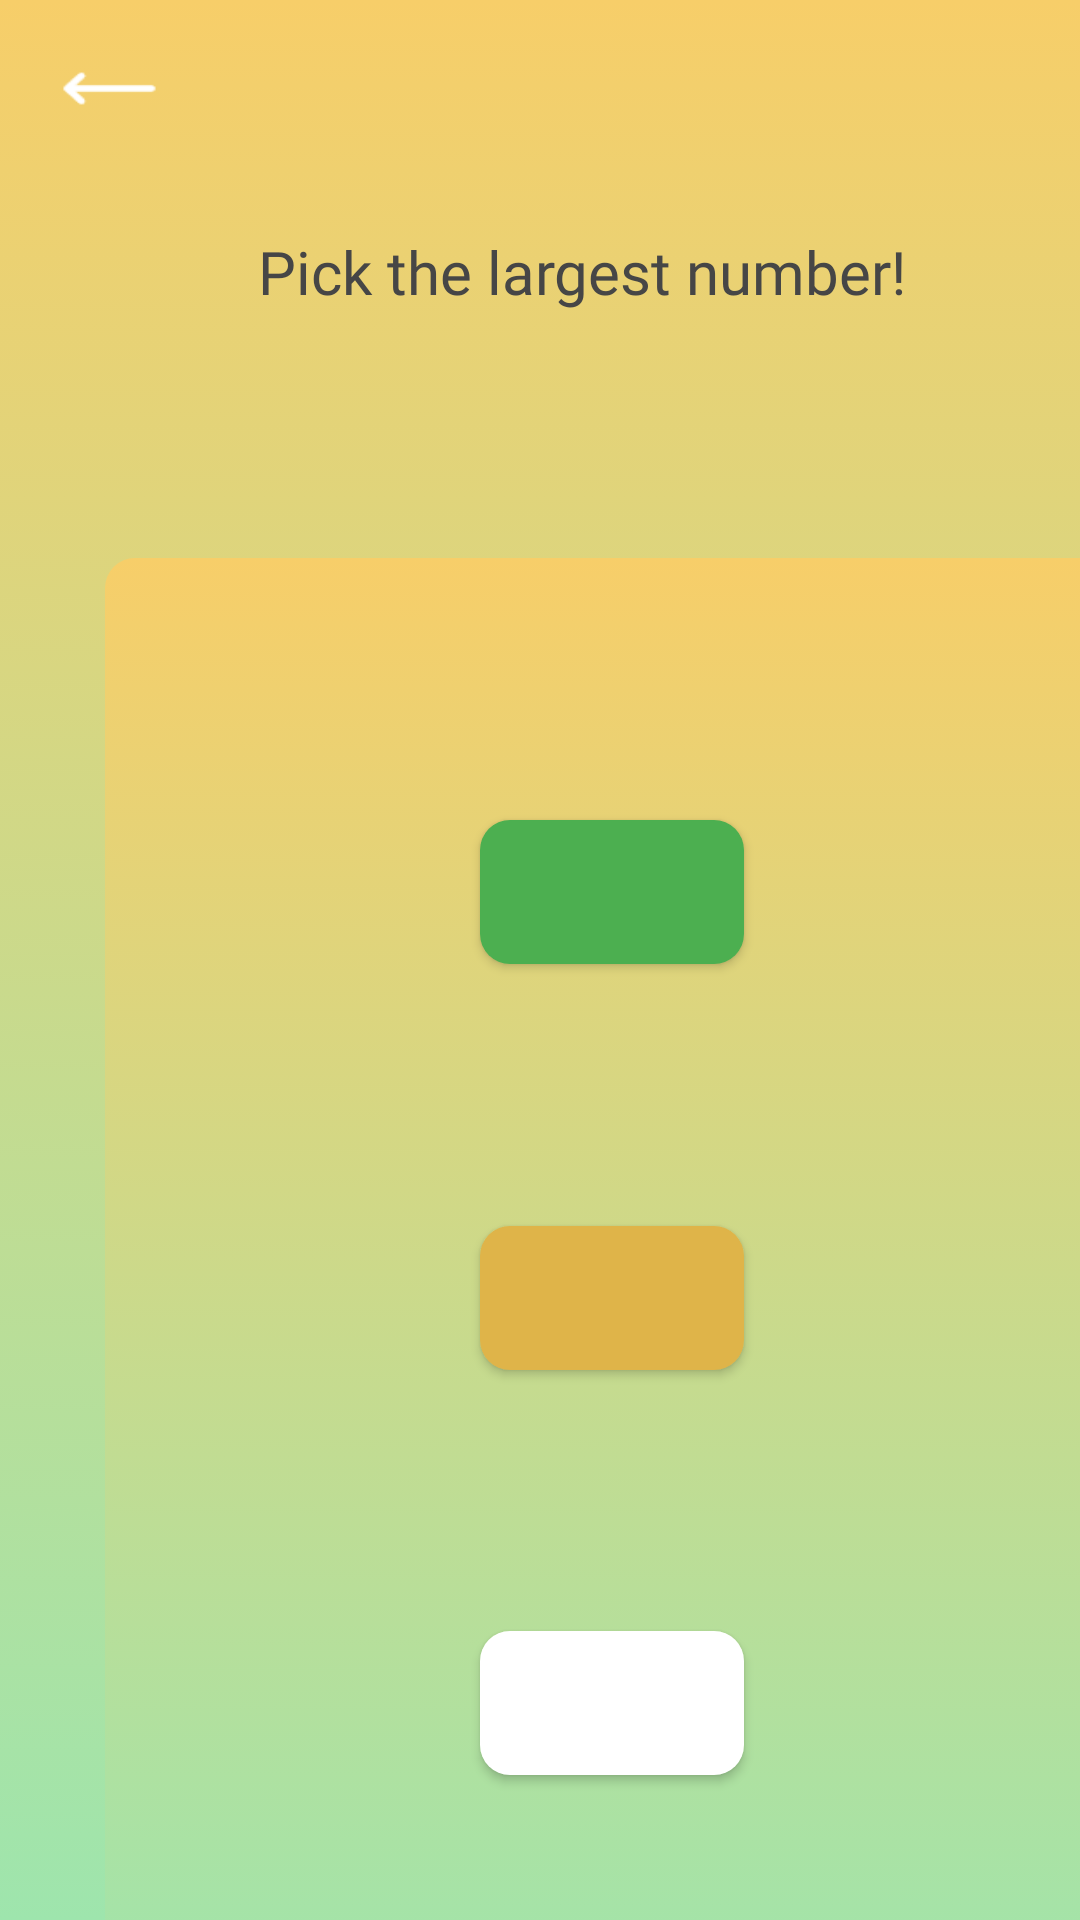

Icons on this 1080w x 1920h Android screen, each with the point to tap as [x,y]:
backarrow: [109,88]
